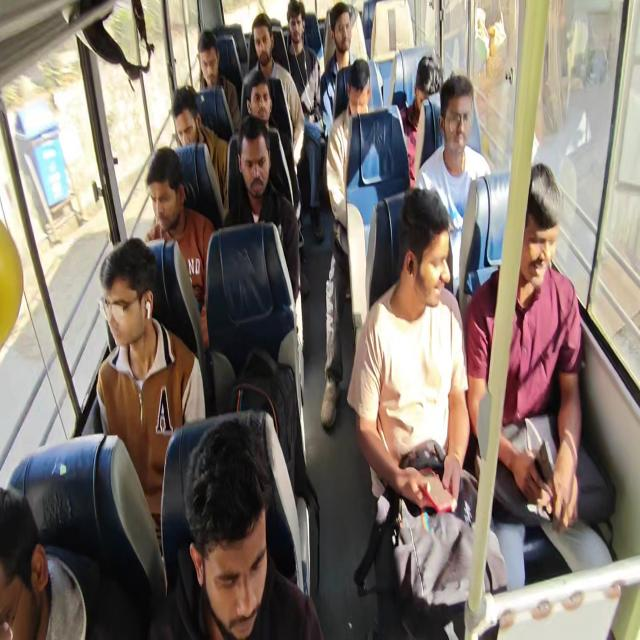person: (162, 410, 284, 640), (509, 148, 574, 302), (397, 188, 462, 312), (0, 485, 51, 640), (96, 231, 154, 352), (142, 147, 188, 238), (432, 66, 473, 162), (232, 127, 277, 207), (412, 46, 444, 122), (167, 87, 204, 152), (339, 60, 373, 122), (243, 73, 280, 129), (194, 30, 227, 88), (332, 4, 361, 62), (251, 12, 276, 64), (288, 2, 308, 45)
